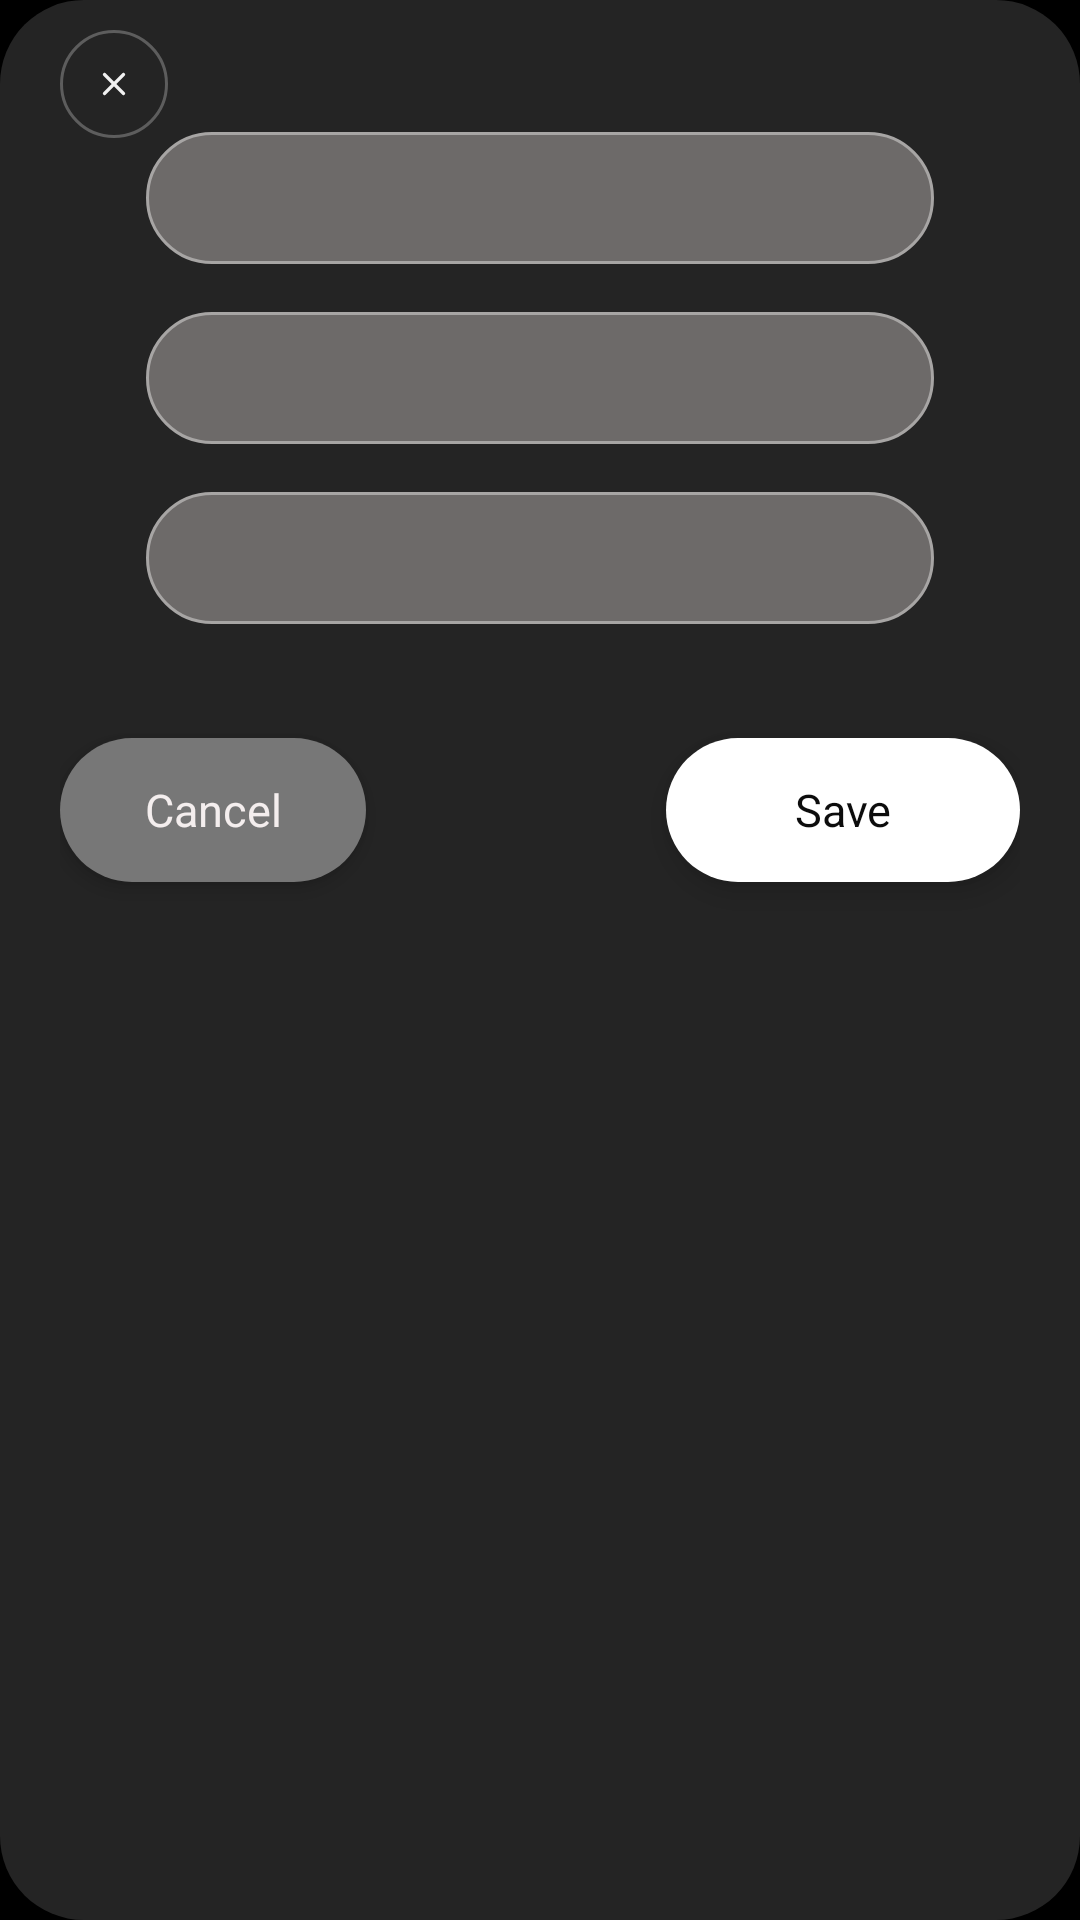

Icon bounding boxes for this 1080 × 1920 phone screenshot, format bbox=[x1, y1, x2, y2]:
close password dialog: bbox=[60, 30, 168, 138]
